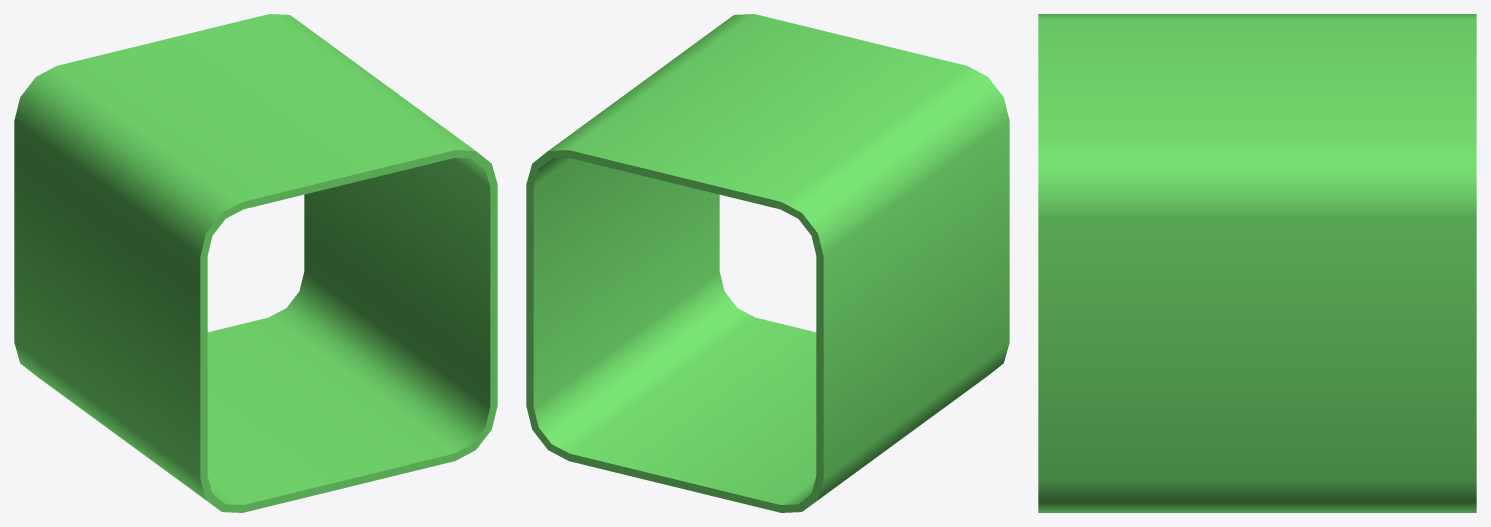
File: cubethollow.fbx
3 renders of one model, left to right at view 1: azimuth 30°, elevation 25°; view 2: azimuth 150°, elevation 25°; view 3: azimuth 270°, elevation 25°, orthographic. The views are drawn at different scales.
Parts seen in each view (by area): view 1: cubefull.001; view 2: cubefull.001; view 3: cubefull.001.
Boxes of the visible parts, x1,y1,x2,y2 form: cubefull.001: (14, 14, 497, 512); cubefull.001: (526, 14, 1009, 512); cubefull.001: (1038, 14, 1476, 512).
Bounding box in the file's own units: 100 × 100 × 108.
